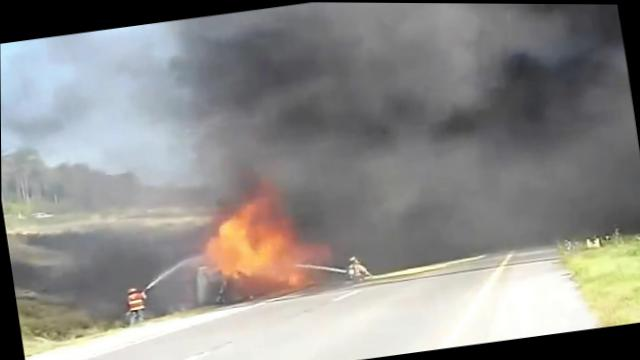fire: (202, 207, 285, 281)
